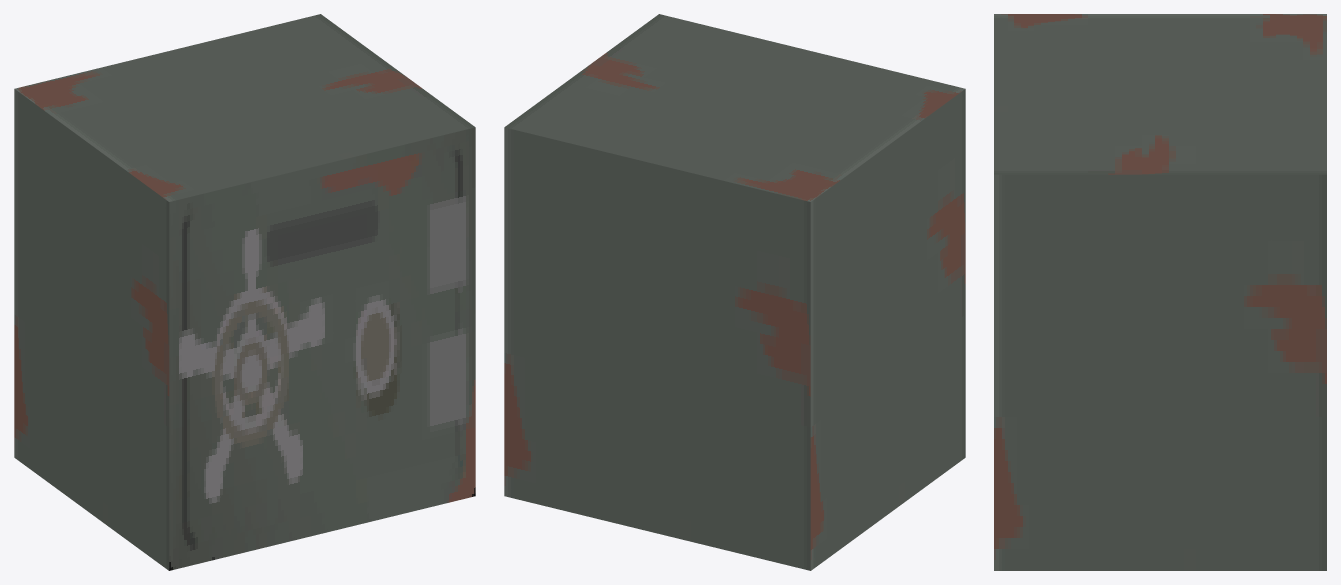
The model's file is Building_AncientSafe.glb.
3 views of the same model, side by side, from view 1: azimuth 30°, elevation 25°; view 2: azimuth 150°, elevation 25°; view 3: azimuth 270°, elevation 25° (orthographic). The views are drawn at different scales.
Visible parts, largest first — view 1: AncientSafe; view 2: AncientSafe; view 3: AncientSafe.
Boxes of the visible parts, left/top/right/bottom form: AncientSafe: left=14, top=14, right=475, bottom=570; AncientSafe: left=504, top=14, right=965, bottom=570; AncientSafe: left=994, top=14, right=1326, bottom=570.
Bounding box in the file's own units: 0.8 × 0.92 × 0.7.
Materials: 1 (1 with a texture image).
